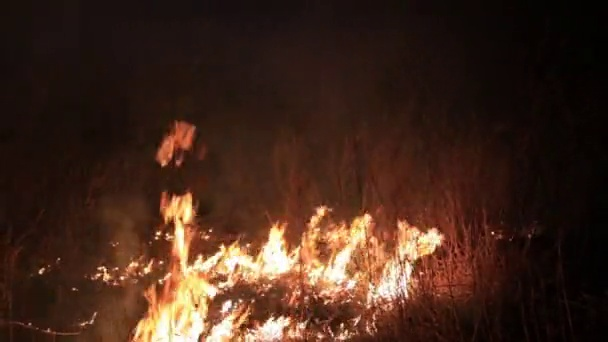fire: (130, 188, 299, 342), (294, 209, 444, 305), (155, 120, 195, 163)
